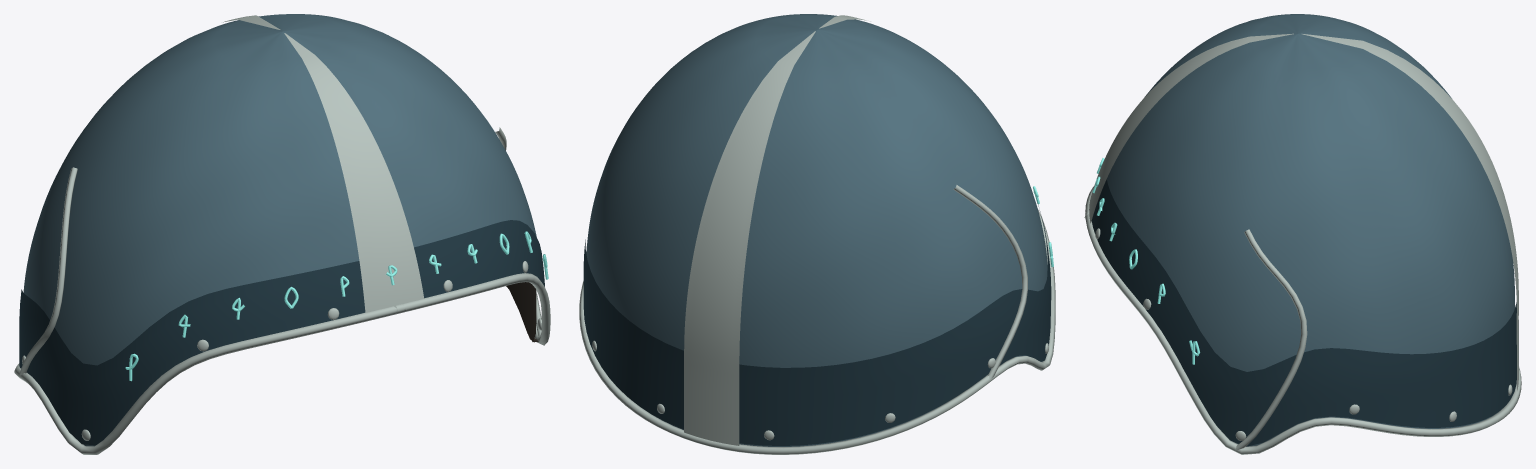
File: runed_helm.glb
3 views of the same model, side by side, from view 1: azimuth 30°, elevation 25°; view 2: azimuth 150°, elevation 25°; view 3: azimuth 270°, elevation 25° (orthographic). The views are drawn at different scales.
Parts seen in each view (by area): view 1: runed_helm: tempered midnight steel, runed_helm: engraved blue steel recess, runed_helm: brushed pewter edges, runed_helm: quiet frost runes, runed_helm: supple dark fitted lining; view 2: runed_helm: tempered midnight steel, runed_helm: engraved blue steel recess, runed_helm: brushed pewter edges; view 3: runed_helm: tempered midnight steel, runed_helm: engraved blue steel recess, runed_helm: brushed pewter edges, runed_helm: quiet frost runes.
Boxes of the visible parts, box(x1,y1,x2,y2) form: runed_helm: tempered midnight steel: box(23, 14, 536, 446); runed_helm: engraved blue steel recess: box(19, 220, 544, 445); runed_helm: brushed pewter edges: box(14, 15, 550, 454); runed_helm: quiet frost runes: box(125, 231, 548, 381); runed_helm: supple dark fitted lining: box(506, 282, 538, 342); runed_helm: tempered midnight steel: box(586, 14, 1047, 446); runed_helm: engraved blue steel recess: box(583, 200, 1051, 445); runed_helm: brushed pewter edges: box(579, 15, 1055, 454); runed_helm: tempered midnight steel: box(1107, 14, 1514, 446); runed_helm: engraved blue steel recess: box(1091, 179, 1516, 446); runed_helm: brushed pewter edges: box(1084, 33, 1521, 454); runed_helm: quiet frost runes: box(1092, 158, 1200, 364).
Size of the model in its own units: 0.584 by 0.446 by 0.5023.
